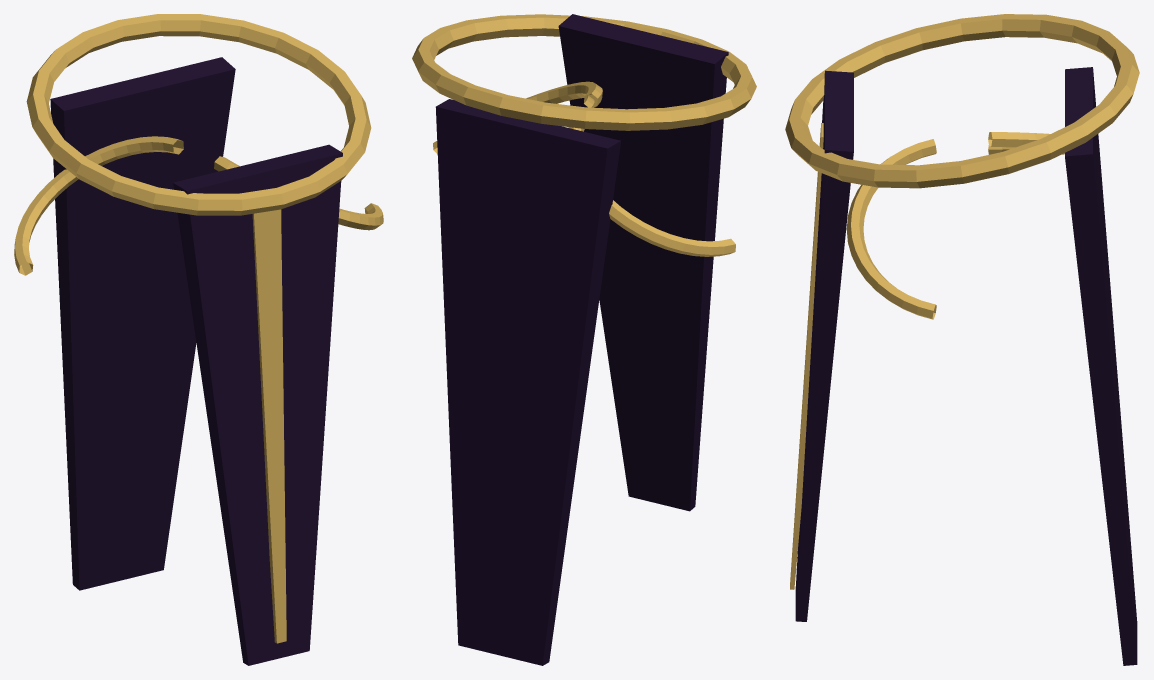
File: Skin_ReaperWaist.obj
The picture shows the model from 3 angles, left to right: view 1: azimuth 30°, elevation 25°; view 2: azimuth 150°, elevation 25°; view 3: azimuth 270°, elevation 25°; orthographic projection. The views are drawn at different scales.
Visible parts, largest first — view 1: Skin_ReaperWaist_BaseArmor, Skin_ReaperWaist_TrimMetal; view 2: Skin_ReaperWaist_BaseArmor, Skin_ReaperWaist_TrimMetal; view 3: Skin_ReaperWaist_BaseArmor, Skin_ReaperWaist_TrimMetal.
Part boxes in pixels (bbox=[...]): Skin_ReaperWaist_BaseArmor: bbox=[50, 57, 342, 665]; Skin_ReaperWaist_TrimMetal: bbox=[14, 14, 383, 643]; Skin_ReaperWaist_BaseArmor: bbox=[435, 14, 728, 665]; Skin_ReaperWaist_TrimMetal: bbox=[412, 14, 756, 256]; Skin_ReaperWaist_BaseArmor: bbox=[795, 67, 1137, 665]; Skin_ReaperWaist_TrimMetal: bbox=[785, 14, 1139, 589].
Bounding box in the file's own units: 0.3776 × 0.6076 × 0.3368.
